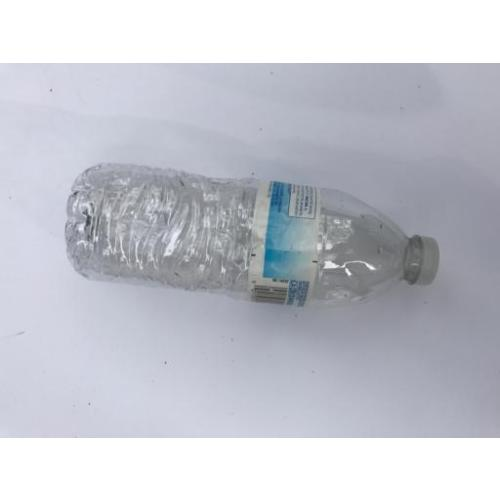plastic: (67, 164, 441, 307)
